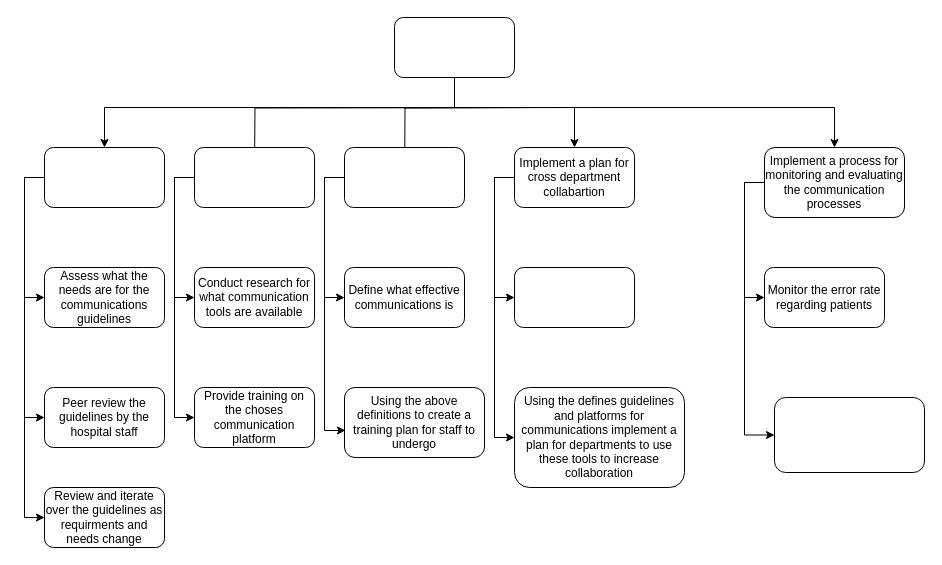
The diagram is 942 pixels wide and 565 high, and some of its shapes have lost their labels. The shapes that lost their labels are listed below. From the top down, each one's centre as x and y in pixels, then its label:
At point (454, 47): "Communication improvement for the hospital".
At point (104, 177): "Define clear communication guidelines".
At point (254, 177): "Implement clear communication tools".
At point (404, 177): "Implement training for effective communications".
At point (574, 297): "Define what departments need to collabarate to reduce errors".
At point (849, 434): "Compare these error rates to the error rates before the improvements took place".
